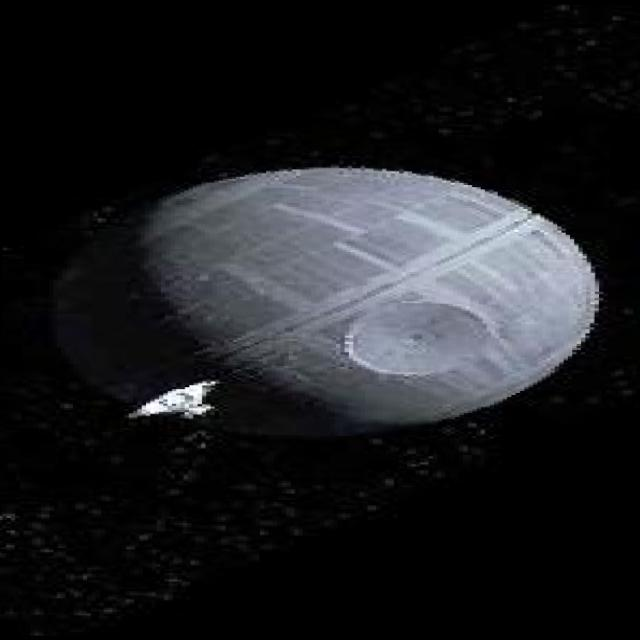Death Star: (45, 165, 614, 447)
